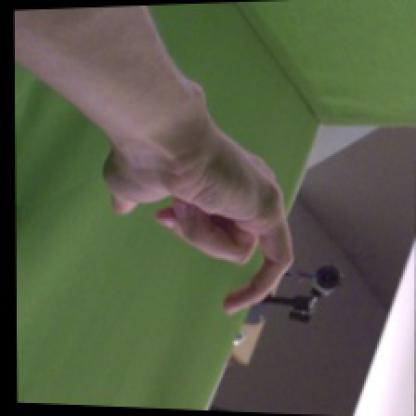Hand: (103, 130, 294, 316)
